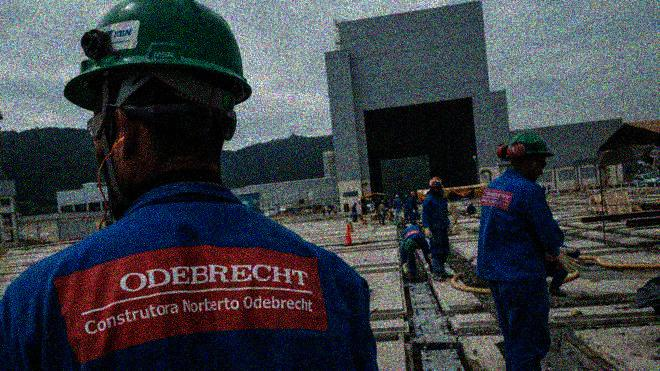helmet: (61, 3, 252, 219), (505, 133, 555, 180), (427, 176, 445, 195)
